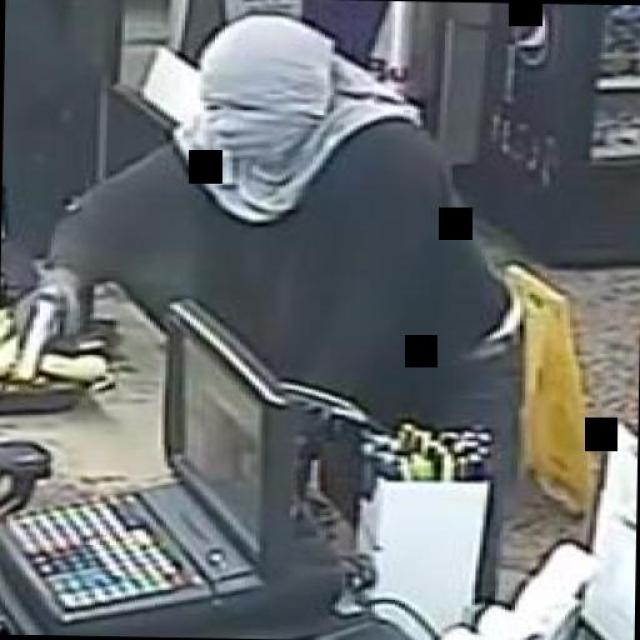gun: (2, 277, 88, 383)
